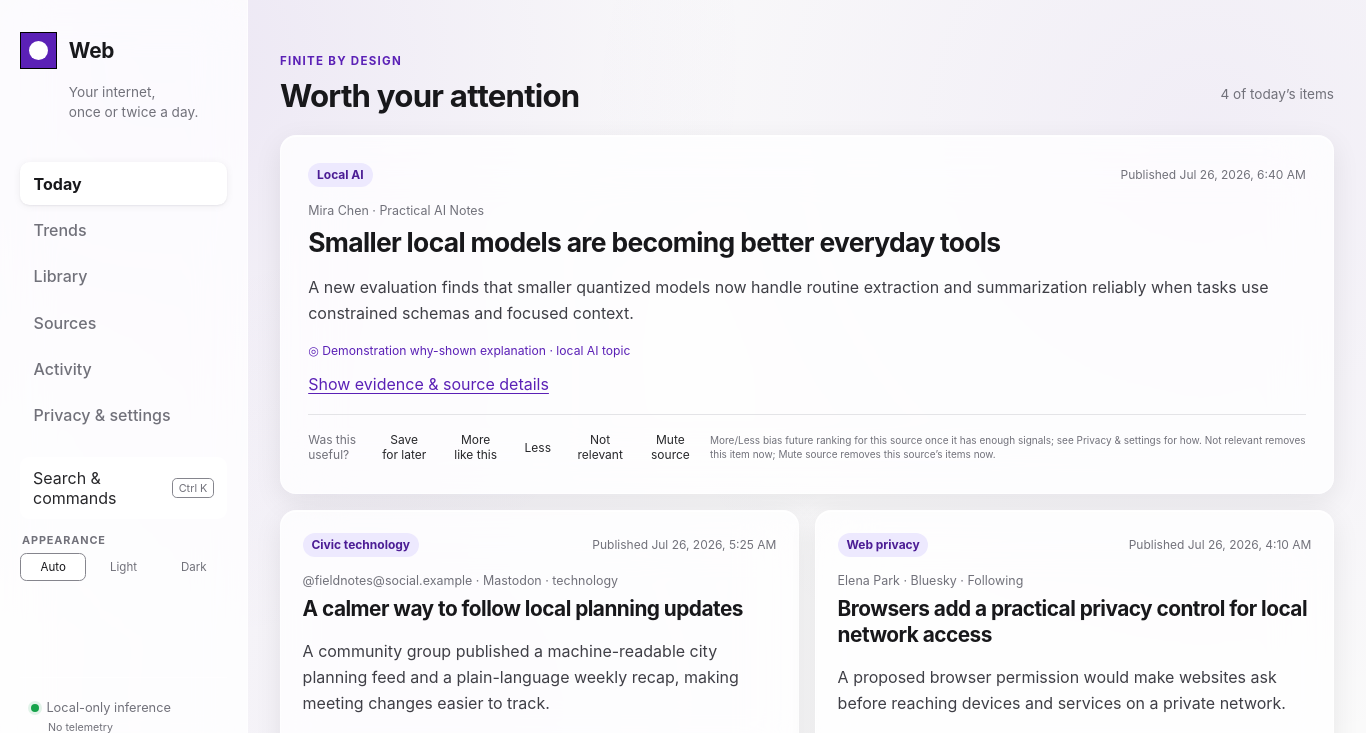
it: calm dashboard › renders a finite edition with provenance and a natural end
(page scrolled)
Click the button with aria-label "Show evidence for Smaller local models" at coordinates (429, 384), box [308,370,549,398]
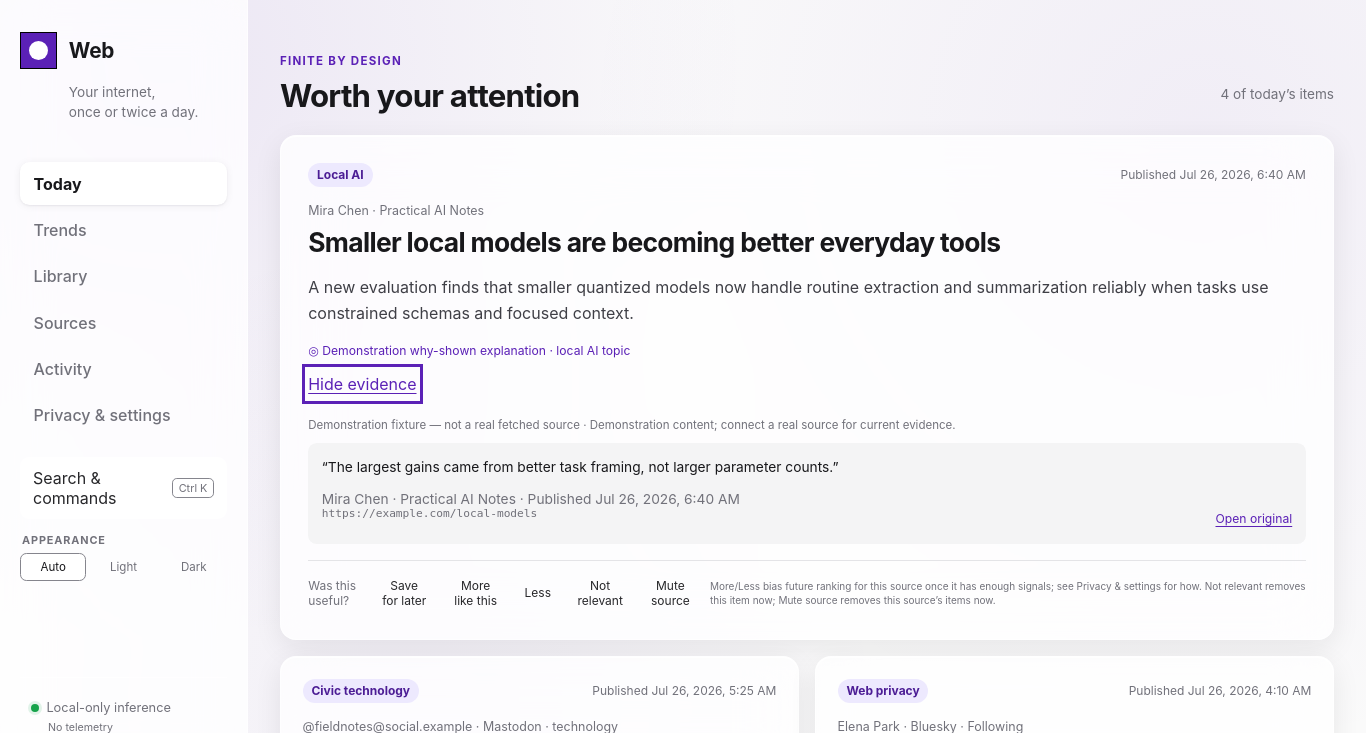
Expected: the text "The largest gains came from better task framing" is shown, [328,459,832,475]
Expected: the text "https://example.com/local-models" is shown, [322,507,537,520]
